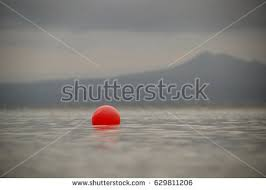buoy: (92, 106, 121, 126)
